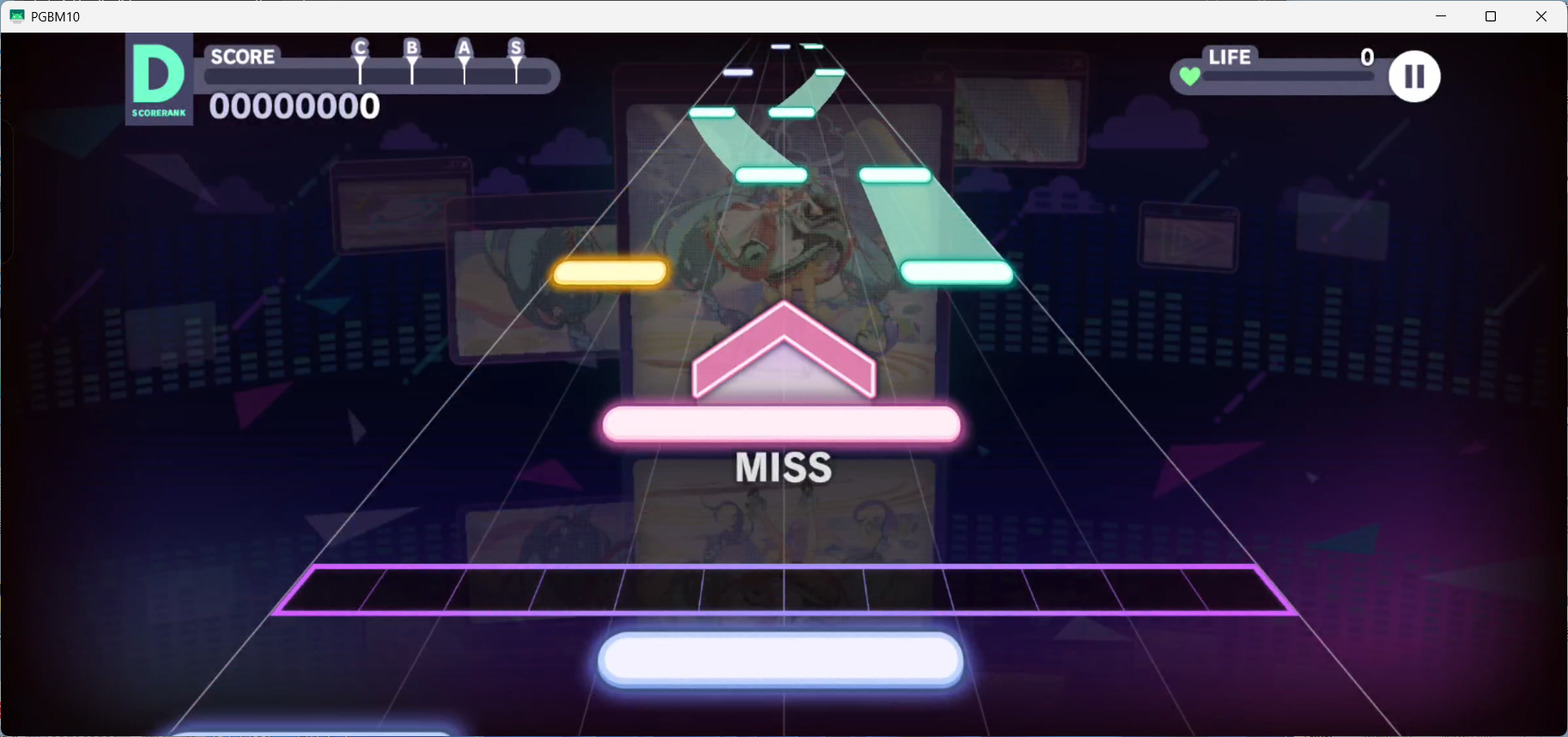flick: (692, 299, 877, 405)
hold: (861, 184, 1005, 259), (690, 118, 800, 167), (776, 76, 843, 107)
tap: (597, 632, 963, 690), (601, 403, 962, 442), (897, 257, 1012, 286), (550, 258, 665, 285), (736, 166, 807, 184), (860, 166, 932, 183), (768, 106, 815, 118), (689, 107, 735, 118), (723, 68, 753, 76), (816, 69, 845, 76), (771, 44, 790, 49), (805, 45, 824, 49)
